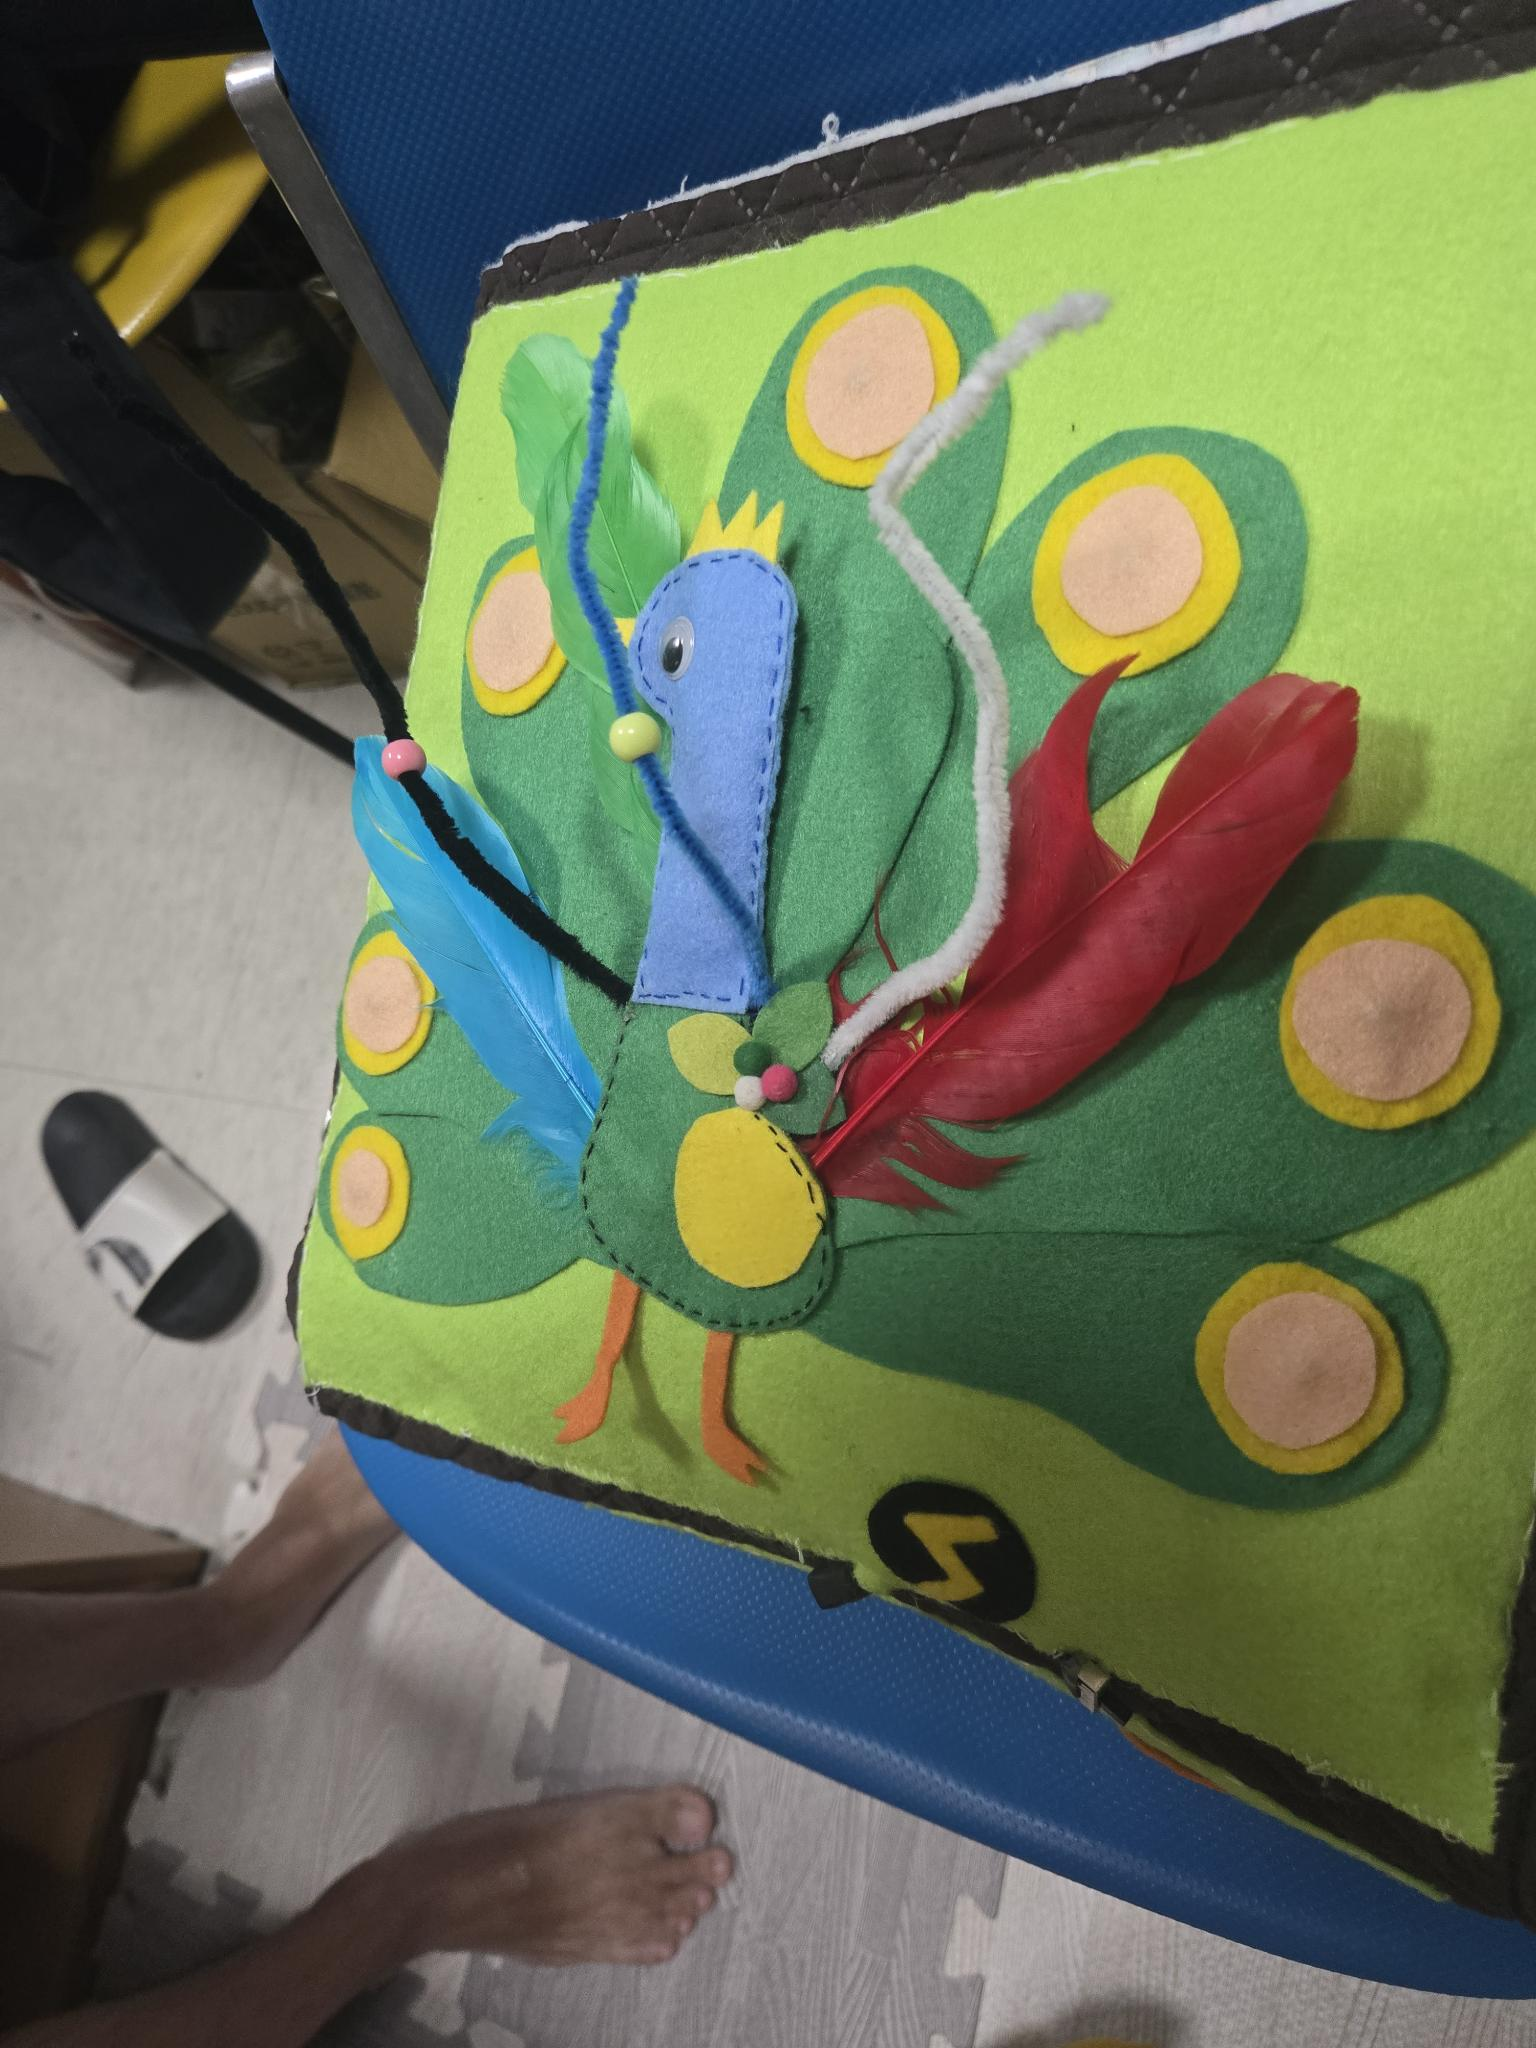bead: (594, 698, 678, 780), (368, 718, 439, 800)
